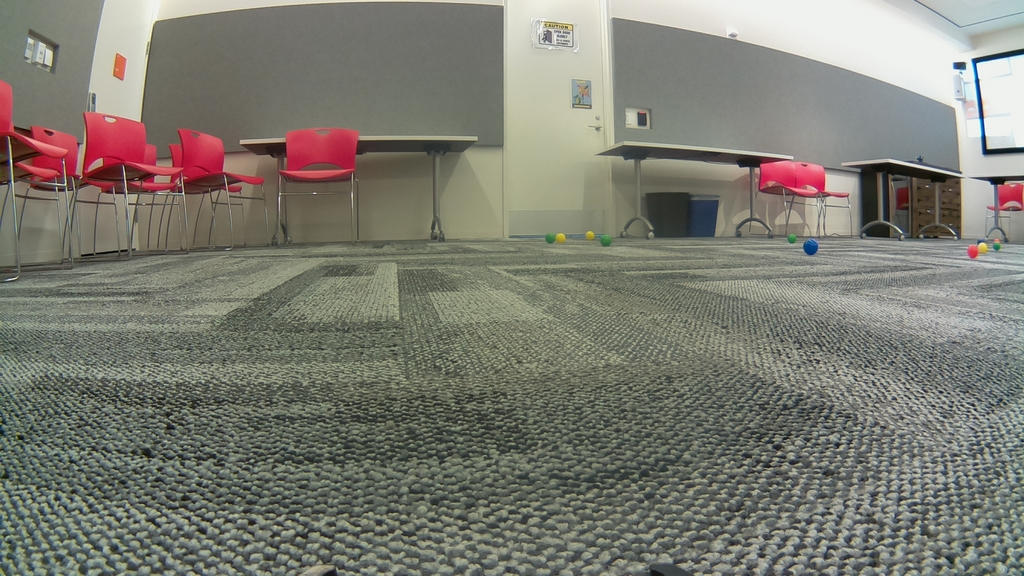ball: (555, 232, 565, 244)
